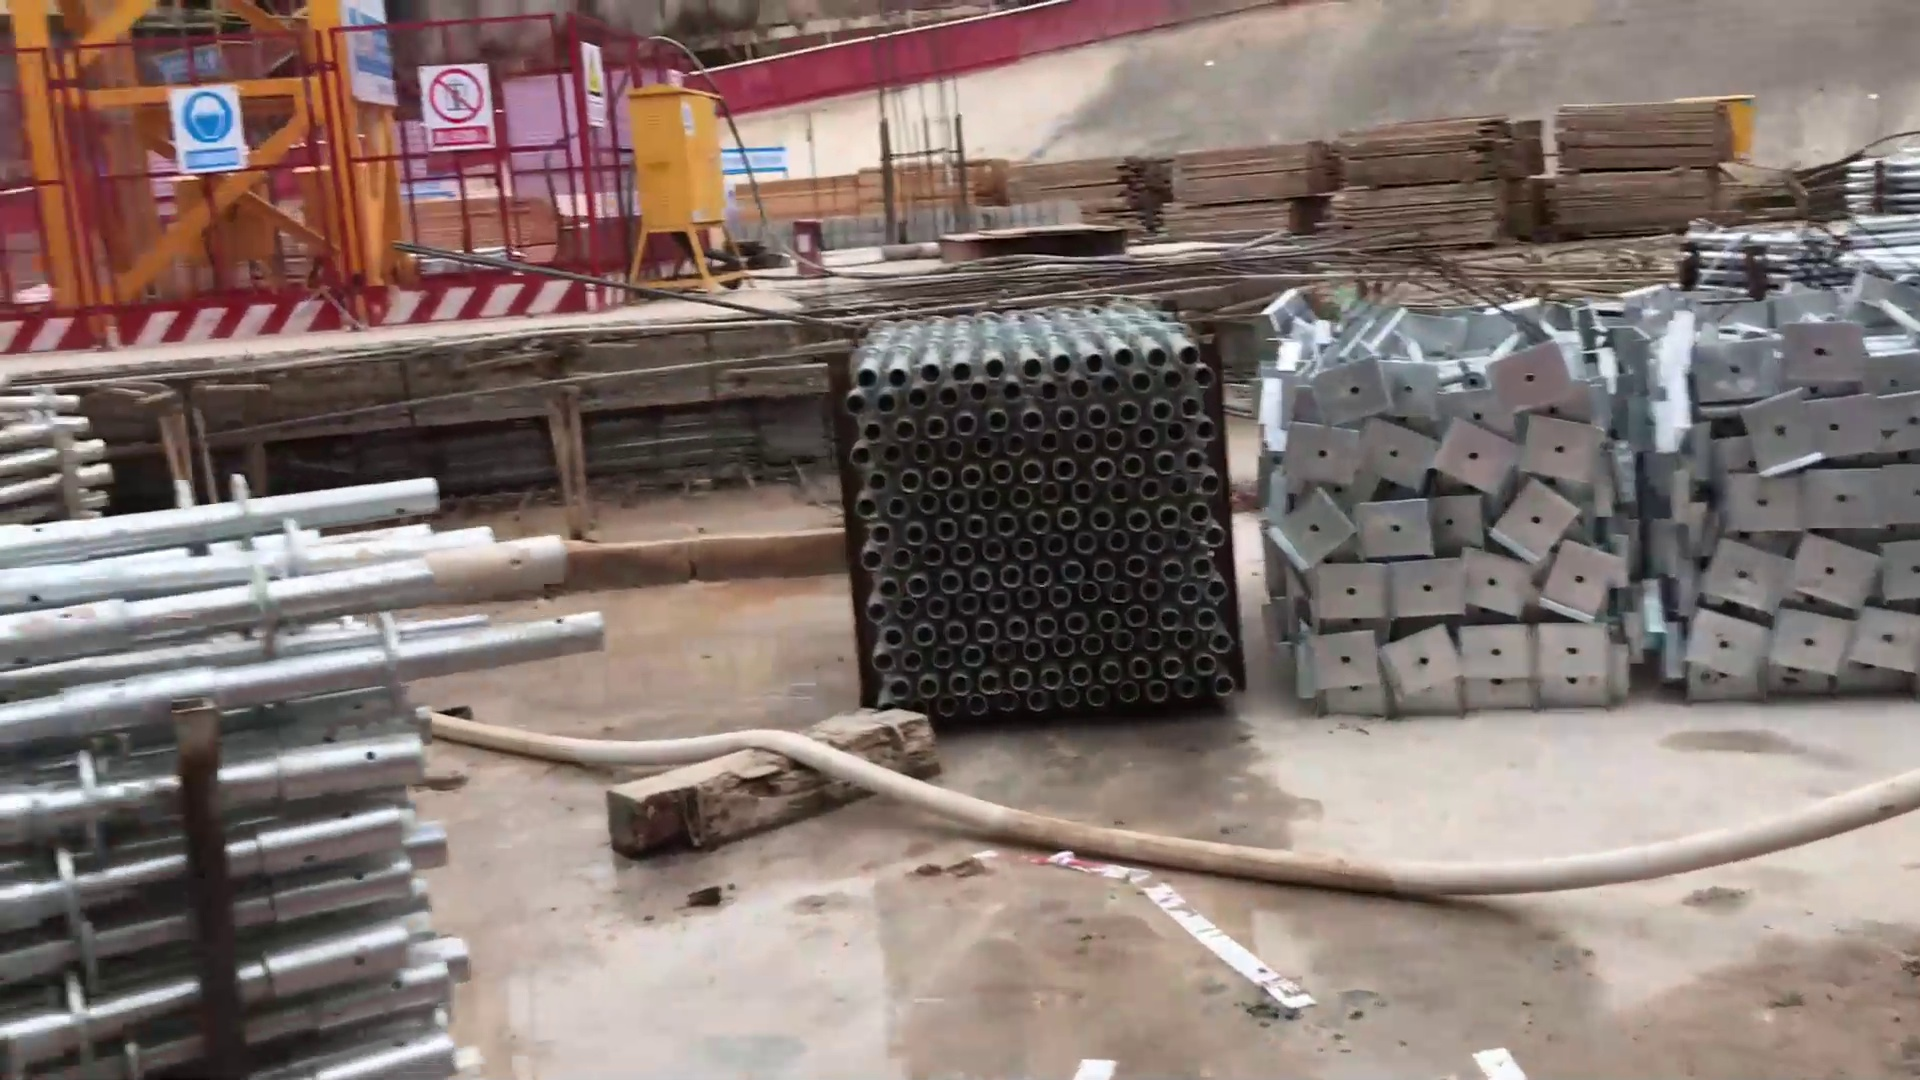ebox: (621, 76, 754, 307)
scaffold: (7, 463, 514, 1080), (1266, 280, 1647, 720), (855, 301, 1240, 723), (1667, 281, 1920, 695)
slogan: (415, 61, 510, 157), (175, 79, 255, 185), (566, 29, 608, 141)
wood: (1336, 100, 1552, 255), (1538, 82, 1738, 243), (1162, 137, 1331, 256), (1010, 156, 1184, 239)
